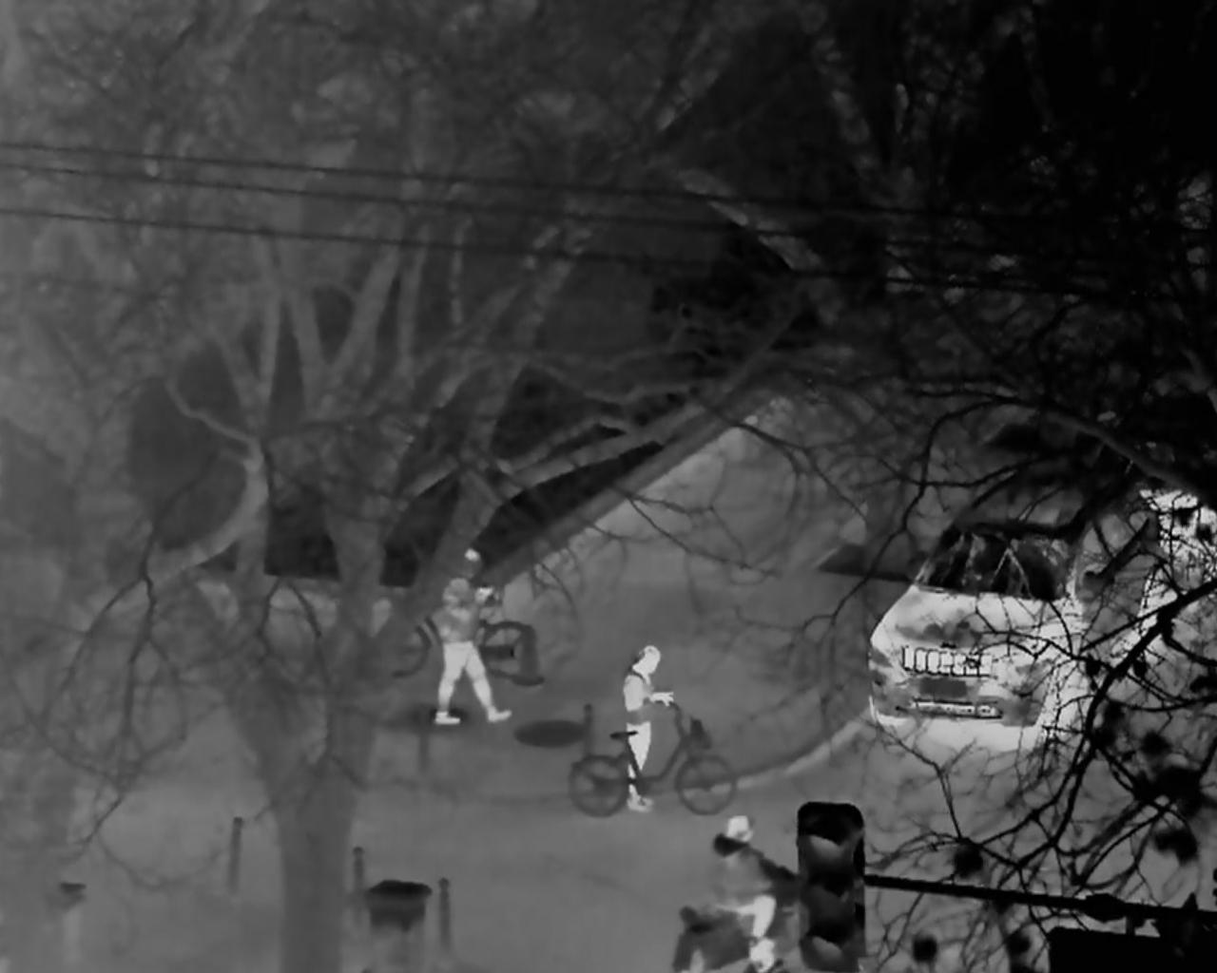person: (431, 548, 513, 727), (708, 813, 775, 973), (618, 641, 676, 811)
